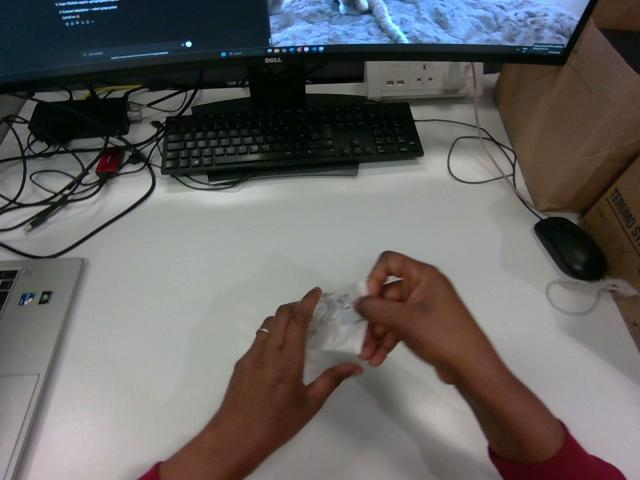syringe: (307, 282, 366, 354)
